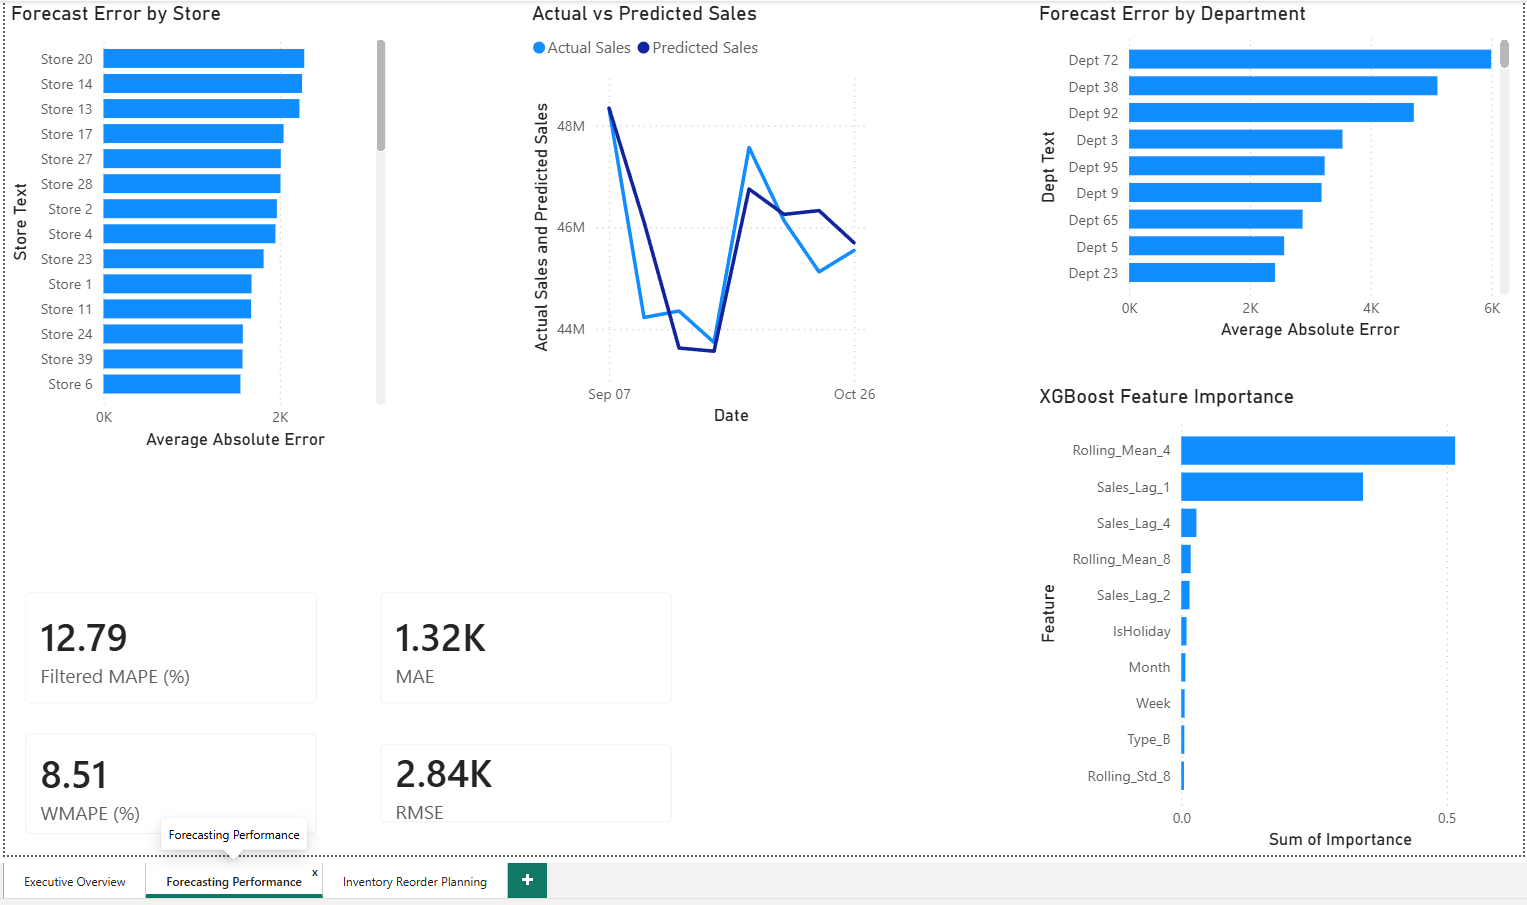

What the dashboard file says about the page in this screenshot:
{"tool":"powerbi","page":{"name":"Forecasting Performance","canvas":[1280,720],"ordinal":1},"visuals":[{"type":"cardVisual","fields":{"Data":["model_metrics.Filtered MAPE"]},"box":[0,481.5,280.1,128.4],"z":0},{"type":"cardVisual","fields":{"Data":["model_metrics.WMAPE"]},"box":[0,600.1,280.1,119.6],"z":1},{"type":"cardVisual","fields":{"Data":["model_metrics.MAE"]},"box":[299.6,481.5,280.1,128.4],"z":3},{"type":"cardVisual","fields":{"Data":["model_metrics.RMSE"]},"box":[299.6,609.8,280.1,100.2],"z":4},{"type":"lineChart","title":"Actual vs Predicted Sales","fields":{"Y":["forecast_results.Actual Sales","forecast_results.Predicted Sales"],"Category":["forecast_results.Date"]},"box":[439.6,0,299.6,362.8],"z":5},{"type":"clusteredBarChart","title":"Forecast Error by Store","fields":{"Category":["forecast_results.Store Text"],"Y":["forecast_results.Average Absolute Error"]},"box":[0,0,325.8,382.2],"z":6},{"type":"clusteredBarChart","title":"Forecast Error by Department","fields":{"Category":["forecast_results.Dept Text"],"Y":["forecast_results.Average Absolute Error"]},"box":[866.6,0,406.6,289.8],"z":7},{"type":"clusteredBarChart","title":"XGBoost Feature Importance","fields":{"Category":["feature_importance.Feature"],"Y":["Sum(feature_importance.Importance)"]},"box":[866.6,322.9,406.6,396.8],"z":8}]}

Visuals, with their boxes on the page's 1280x720 design canvas (x1, y1, x2, y2). These are canvas units, not pixel positions in the 1527x905 screenshot, which may show the page scaled, cropped or inside an application window:
cardVisual - model_metrics.Filtered MAPE: pyautogui.locateOnScreen(0, 482, 280, 610)
cardVisual - model_metrics.WMAPE: pyautogui.locateOnScreen(0, 600, 280, 720)
cardVisual - model_metrics.MAE: pyautogui.locateOnScreen(300, 482, 580, 610)
cardVisual - model_metrics.RMSE: pyautogui.locateOnScreen(300, 610, 580, 710)
"Actual vs Predicted Sales" lineChart: pyautogui.locateOnScreen(440, 0, 739, 363)
"Forecast Error by Store" clusteredBarChart: pyautogui.locateOnScreen(0, 0, 326, 382)
"Forecast Error by Department" clusteredBarChart: pyautogui.locateOnScreen(867, 0, 1273, 290)
"XGBoost Feature Importance" clusteredBarChart: pyautogui.locateOnScreen(867, 323, 1273, 720)
